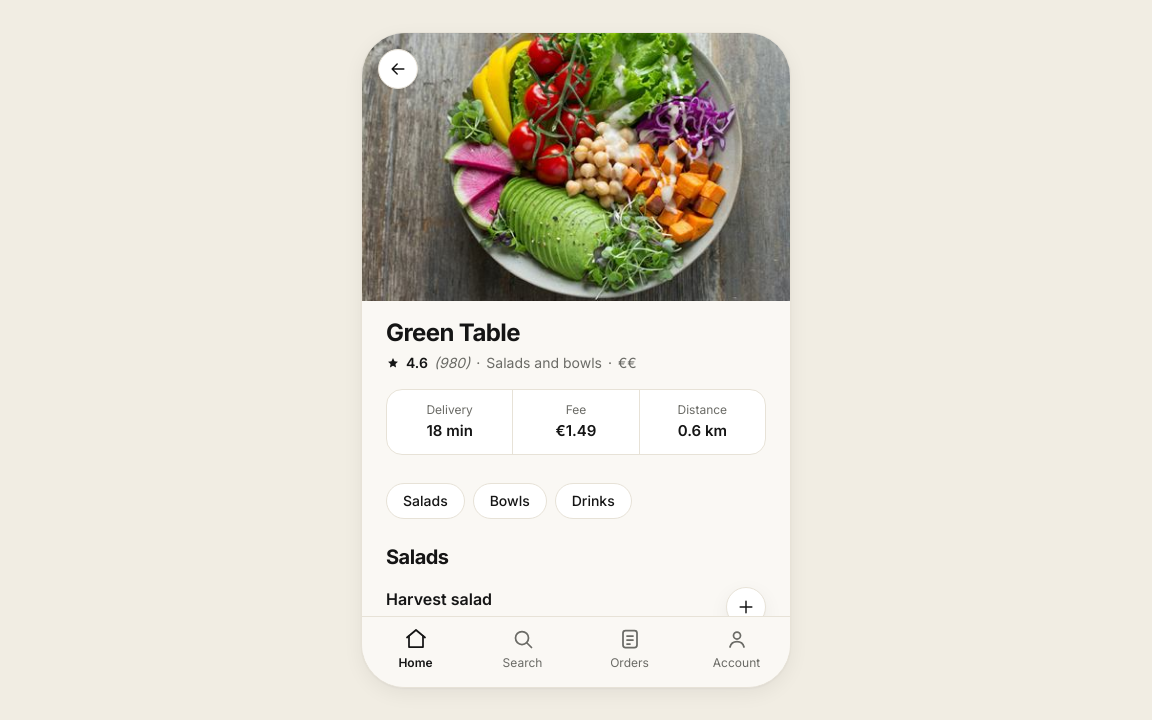
Restaurant page › asks before replacing a cart that belongs to another restaurant
Earlier steps of the test are not shown.
Expected: the heading "Green Table" is shown, top-left (386, 318), bottom-right (520, 346)
Click the button named "Add Harvest salad" at [746, 607], box top-left (726, 587), bottom-right (766, 627)
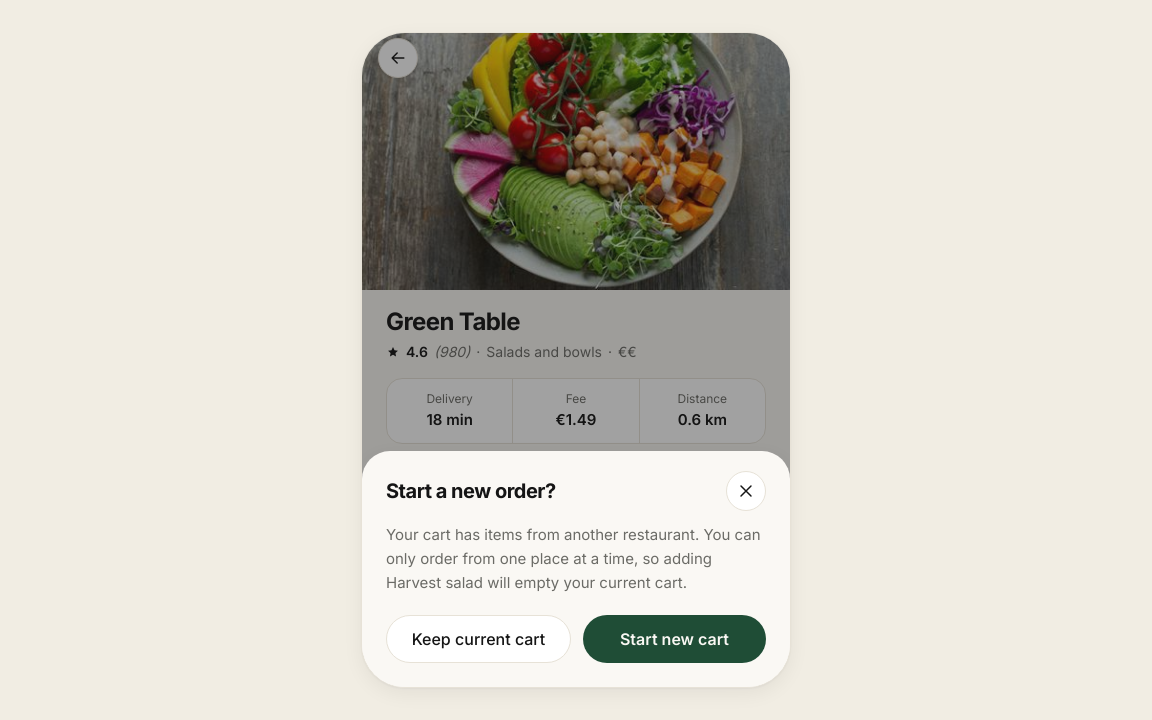
Expected: the button "View cart" is not shown
Click the button "Start new cart" at [674, 639], box top-left (583, 615), bottom-right (766, 663)
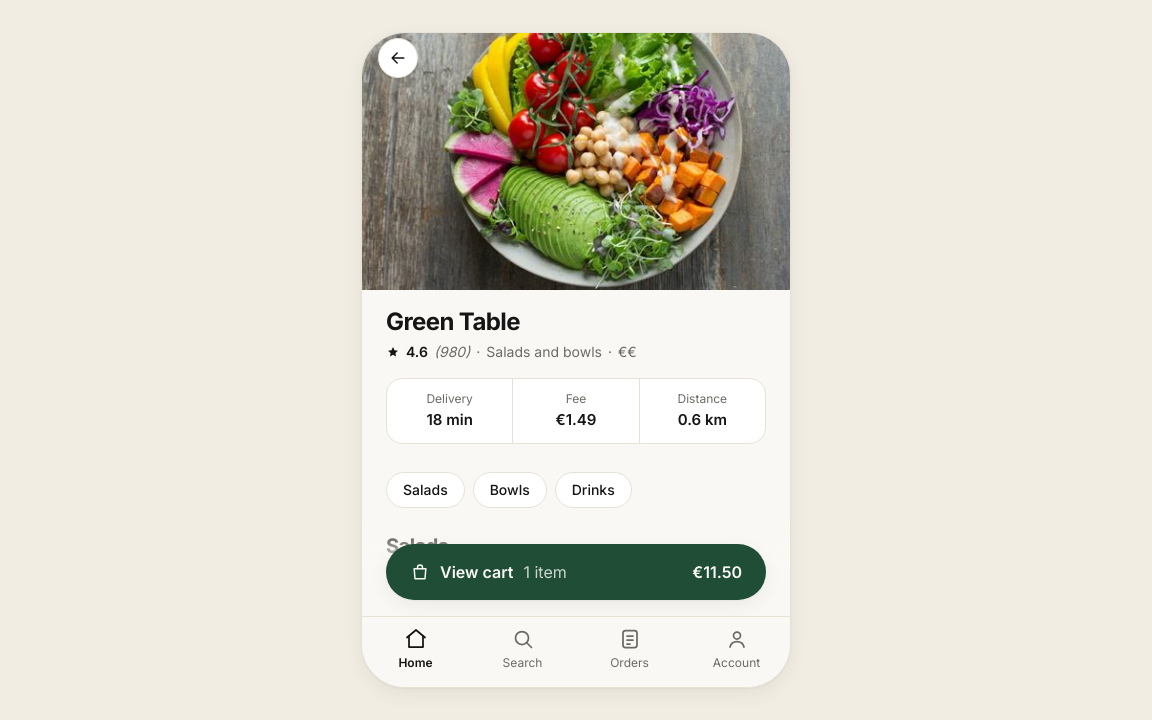
Expected: the dialog is gone
Expected: the button "View cart 1 item €11.50" is shown, top-left (386, 544), bottom-right (766, 600)
Expected: the button named "Remove one Harvest salad" is shown, top-left (666, 576), bottom-right (706, 616)
